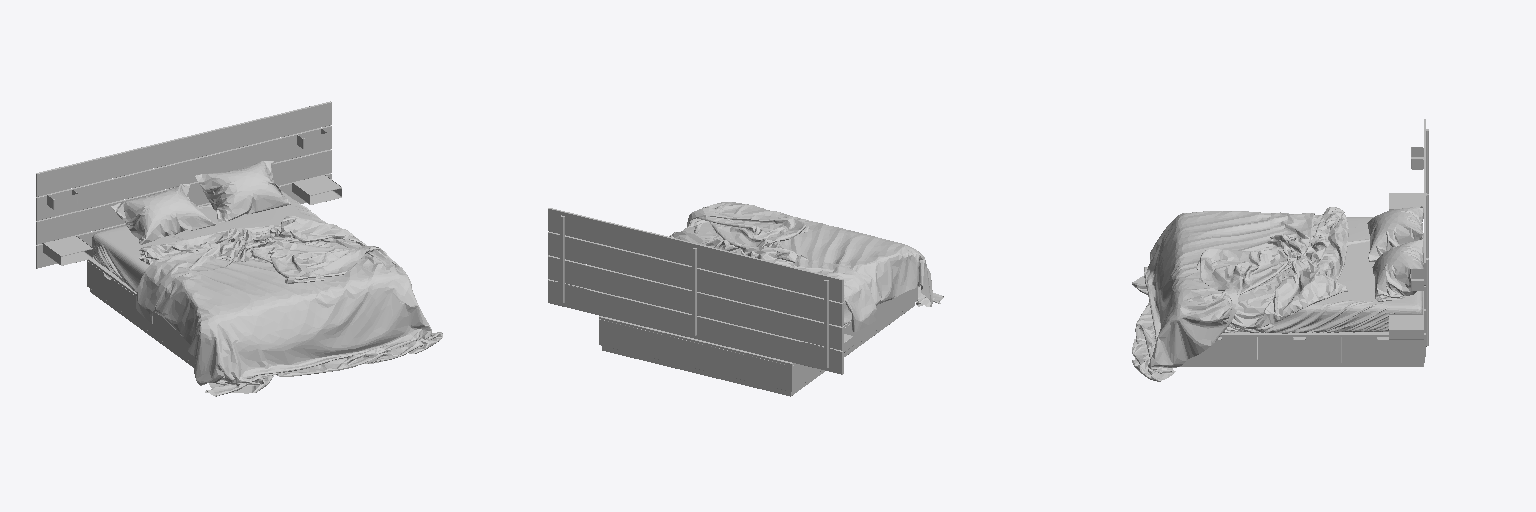
The model's file is bed.obj.
The picture shows the model from 3 angles: view 1: azimuth 30°, elevation 25°; view 2: azimuth 150°, elevation 25°; view 3: azimuth 270°, elevation 25°; orthographic projection.
Parts seen in each view (by area): view 1: Nordli_Cover_Low, Nordli_Frame_Low, Nordli_Pillows_Low, Nordli_Sheet_Low, Nordli_Comforter_Low, Nordli_Shelves; view 2: Nordli_Frame_Low, Nordli_Cover_Low, Nordli_Comforter_Low; view 3: Nordli_Cover_Low, Nordli_Frame_Low, Nordli_Comforter_Low, Nordli_Sheet_Low, Nordli_Pillows_Low, Nordli_Shelves.
Part boxes in pixels (x1,y1,x2,y2): Nordli_Cover_Low: (136, 239, 442, 396); Nordli_Frame_Low: (36, 101, 331, 367); Nordli_Pillows_Low: (111, 161, 290, 244); Nordli_Sheet_Low: (92, 191, 324, 292); Nordli_Comforter_Low: (139, 216, 366, 264); Nordli_Shelves: (42, 128, 341, 265); Nordli_Frame_Low: (548, 208, 917, 396); Nordli_Cover_Low: (687, 202, 943, 331); Nordli_Comforter_Low: (669, 219, 803, 293); Nordli_Cover_Low: (1132, 211, 1314, 381); Nordli_Frame_Low: (1180, 119, 1428, 366); Nordli_Comforter_Low: (1228, 207, 1348, 328); Nordli_Sheet_Low: (1223, 217, 1422, 333); Nordli_Pillows_Low: (1367, 206, 1423, 301); Nordli_Shelves: (1389, 147, 1423, 339).
Size of the model in its own units: 2.74 by 1.16 by 2.39.